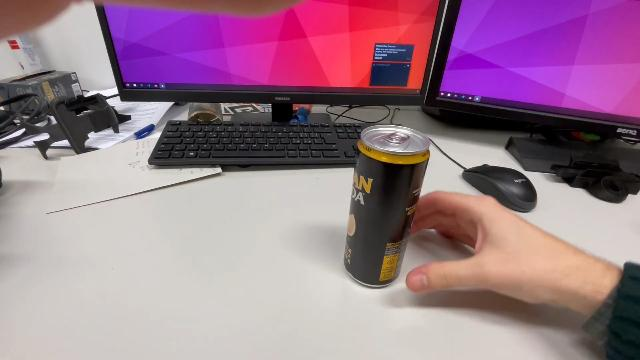OranSoda: (342, 121, 432, 293)
